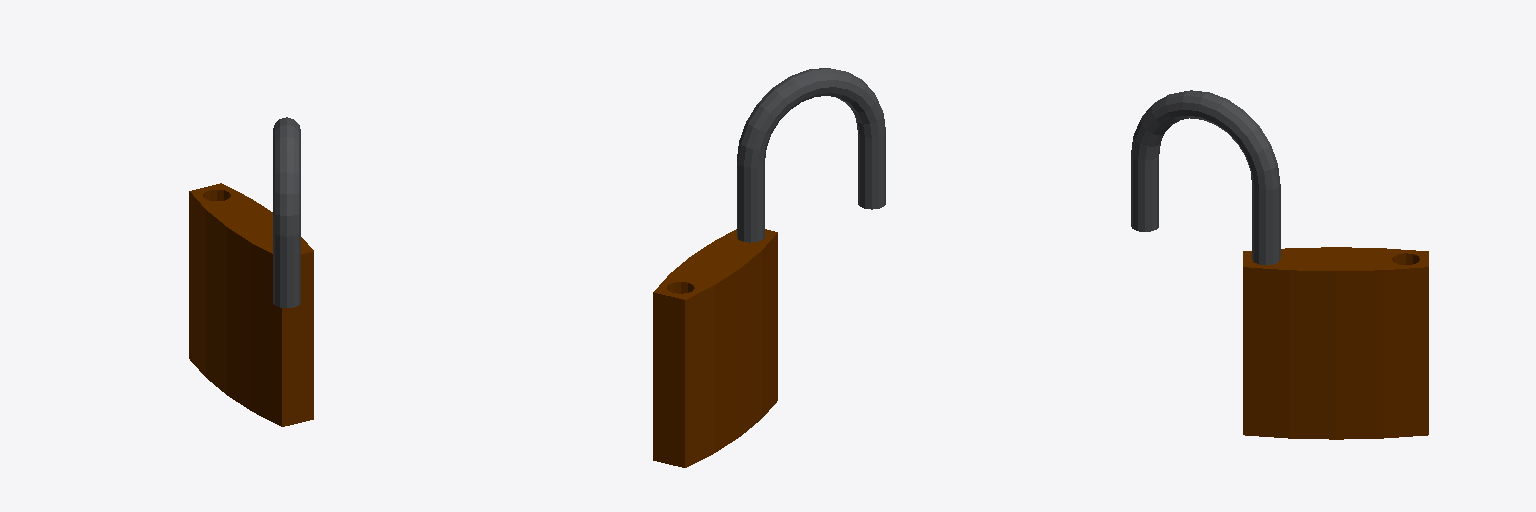
The model's file is gizmo_lock_opened.sgm.obj.
3 renders of one model, left to right at view 1: azimuth 30°, elevation 25°; view 2: azimuth 150°, elevation 25°; view 3: azimuth 270°, elevation 25°, orthographic.
Parts seen in each view (by area): view 1: 1, 0; view 2: 1, 0; view 3: 1, 0.
Boxes of the visible parts, x1,y1,x2,y2 form: 1: [189, 183, 313, 426]; 0: [273, 117, 300, 307]; 1: [653, 229, 777, 467]; 0: [737, 68, 885, 242]; 1: [1243, 247, 1428, 439]; 0: [1131, 90, 1280, 264].
Bounding box in the file's own units: 0.0638 × 0.1994 × 0.1686.